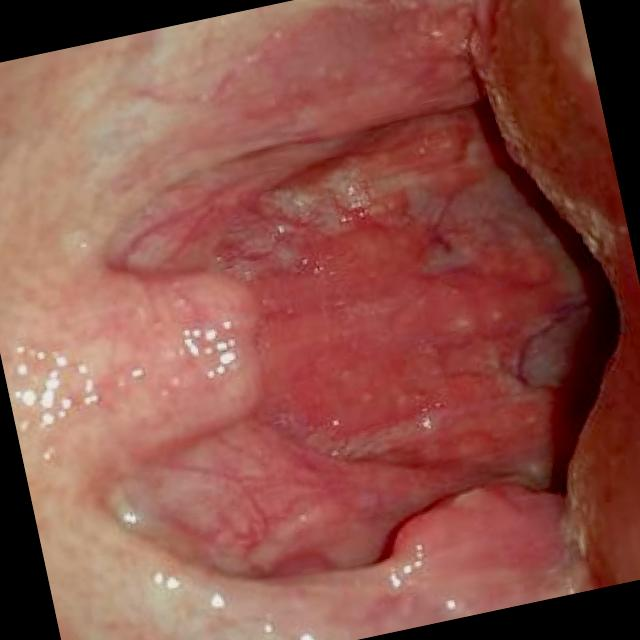Non Pharyngitis: (45, 190, 368, 480), (366, 469, 596, 632)
